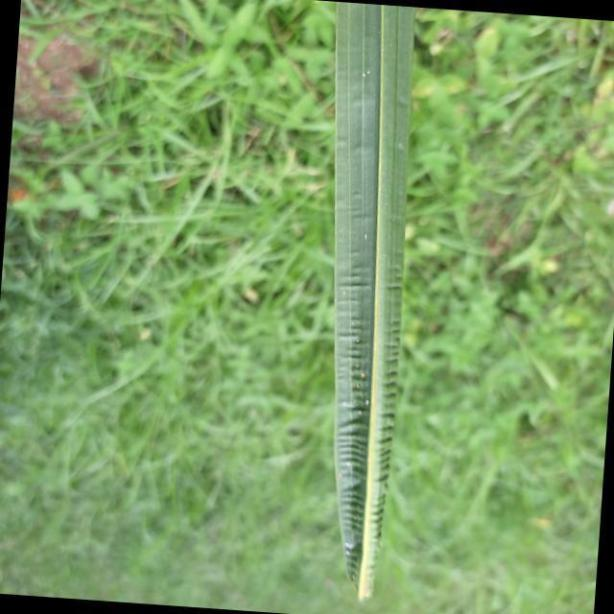Boron: (329, 0, 407, 604)
